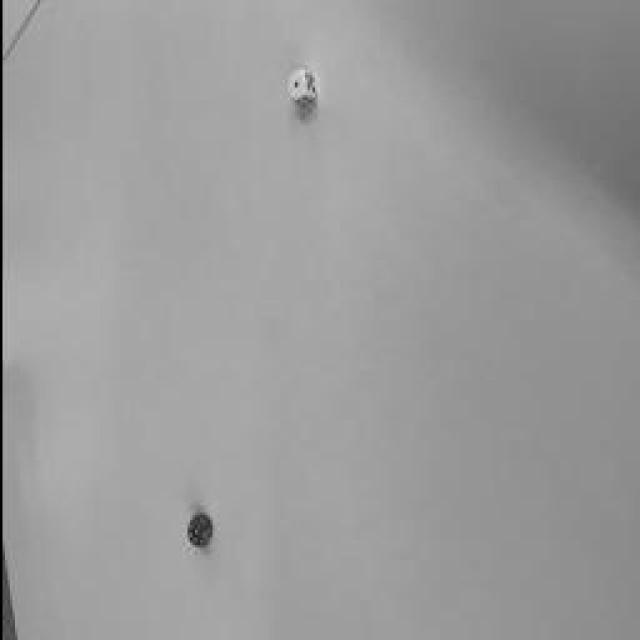dice_1: (288, 70, 302, 100)
dice_4: (185, 519, 197, 546)
